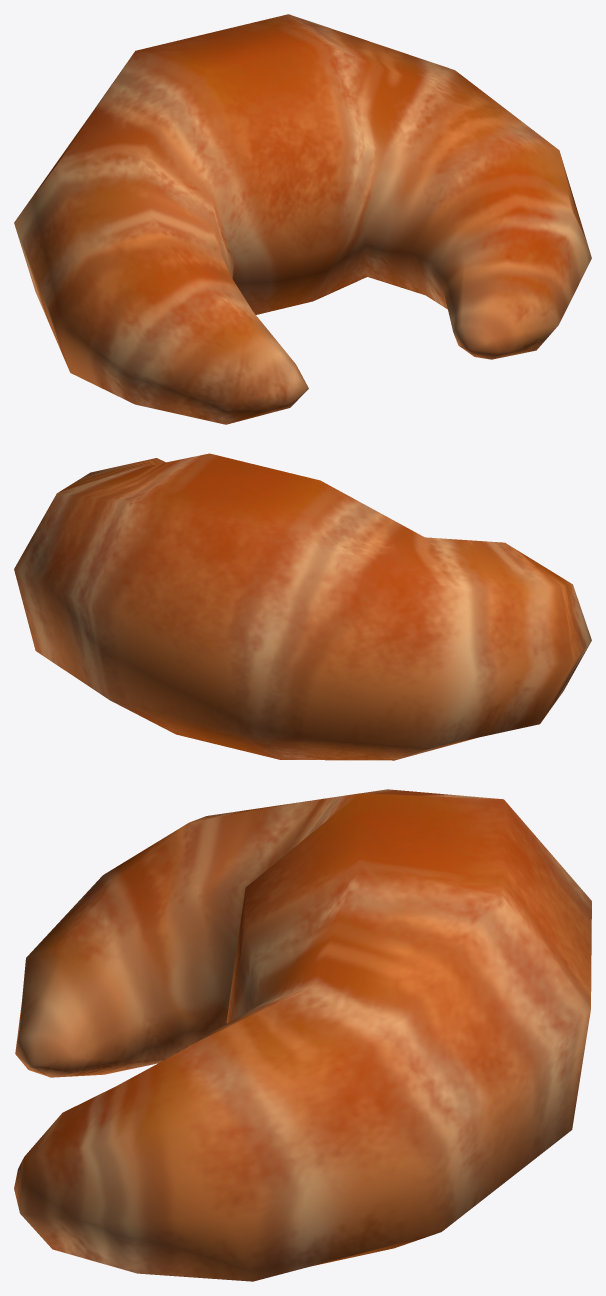
Rendered from Croissant.fbx.
The picture shows the model from 3 angles, top to bottom: view 1: azimuth 30°, elevation 25°; view 2: azimuth 150°, elevation 25°; view 3: azimuth 270°, elevation 25°; orthographic projection. The views are drawn at different scales.
Visible parts, largest first — view 1: Croissant; view 2: Croissant; view 3: Croissant.
Boxes of the visible parts, left/top/right/bottom form: Croissant: left=14, top=14, right=591, bottom=424; Croissant: left=14, top=453, right=591, bottom=760; Croissant: left=14, top=789, right=591, bottom=1281.
Size of the model in its own units: 41.25 by 19.51 by 30.26.
